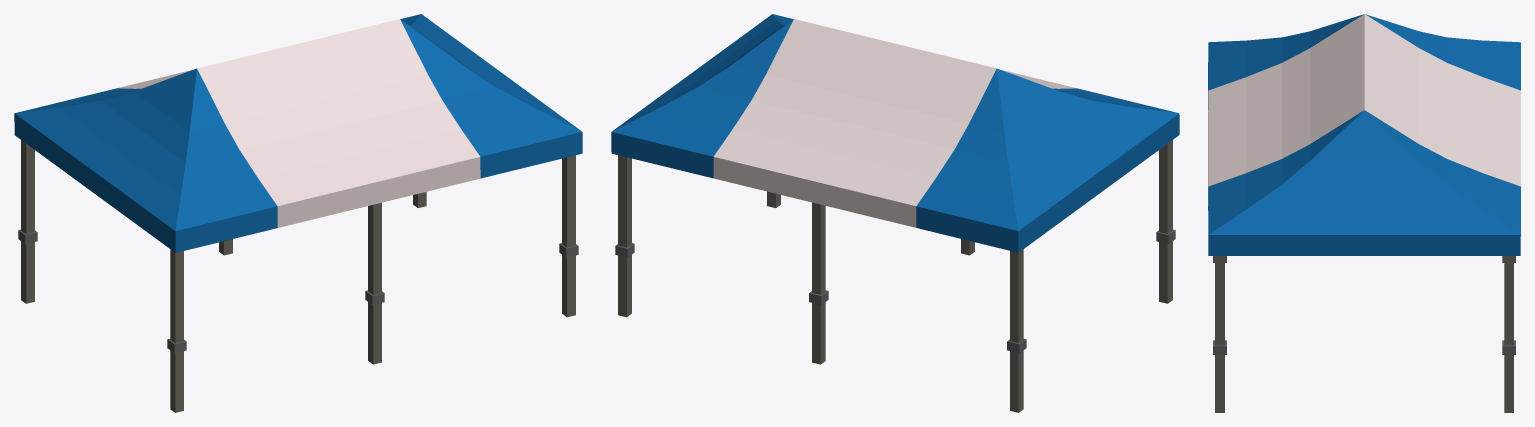
File: Tent_platform.fbx
The picture shows the model from 3 angles, left to right: view 1: azimuth 30°, elevation 25°; view 2: azimuth 150°, elevation 25°; view 3: azimuth 270°, elevation 25°; orthographic projection. The views are drawn at different scales.
Parts seen in each view (by area): view 1: Tent_platform; view 2: Tent_platform; view 3: Tent_platform.
Boxes of the visible parts, x1=… form: Tent_platform: x1=14, y1=14, x2=582, y2=412; Tent_platform: x1=611, y1=14, x2=1179, y2=412; Tent_platform: x1=1208, y1=14, x2=1520, y2=412.
Size of the model in its own units: 176 by 121 by 109.
